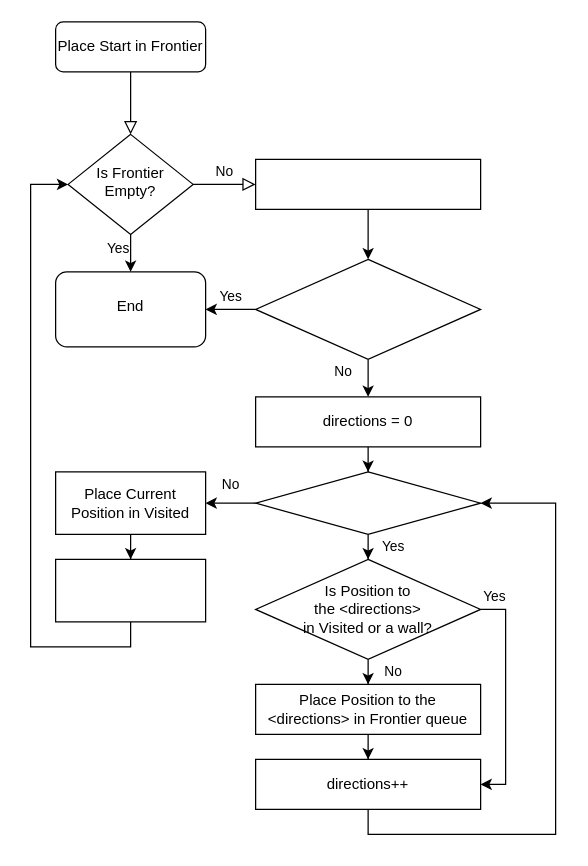
The diagram is 588 pixels wide and 866 high, and some of its shapes have lost their labels. The box of each missing label's shape, as (x1, y1, x2, y2) in pixels:
Current Position = Frontier: (254, 158, 481, 209)
Dequeue the Frontier: (54, 558, 206, 622)
Is Current Position == Exit Postion?: (254, 258, 481, 359)
Is directions < 8: (254, 471, 481, 534)
